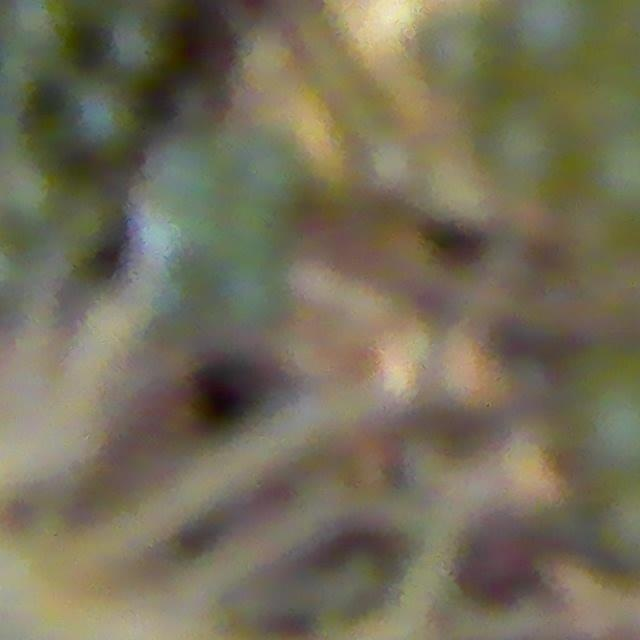SeaGrape: (480, 100, 574, 201), (408, 0, 500, 92), (571, 380, 640, 484), (509, 0, 604, 63), (67, 78, 141, 155), (0, 0, 78, 71)
